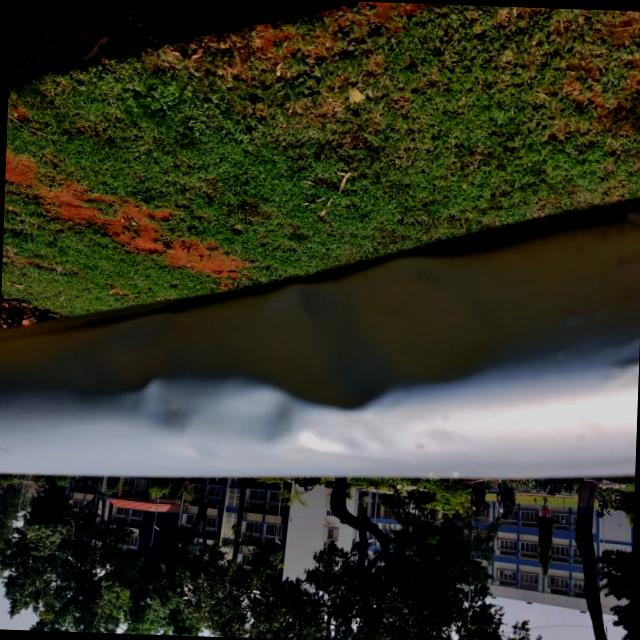dent: (73, 222, 534, 485)
